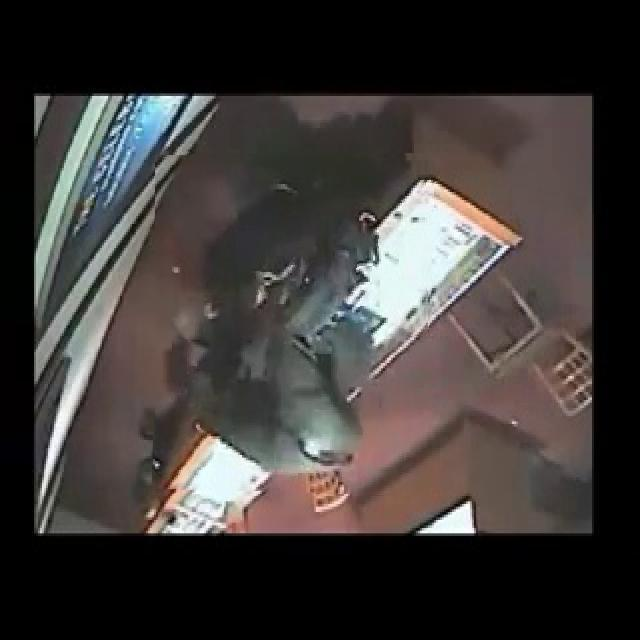Shoplifting: (155, 153, 432, 494)
